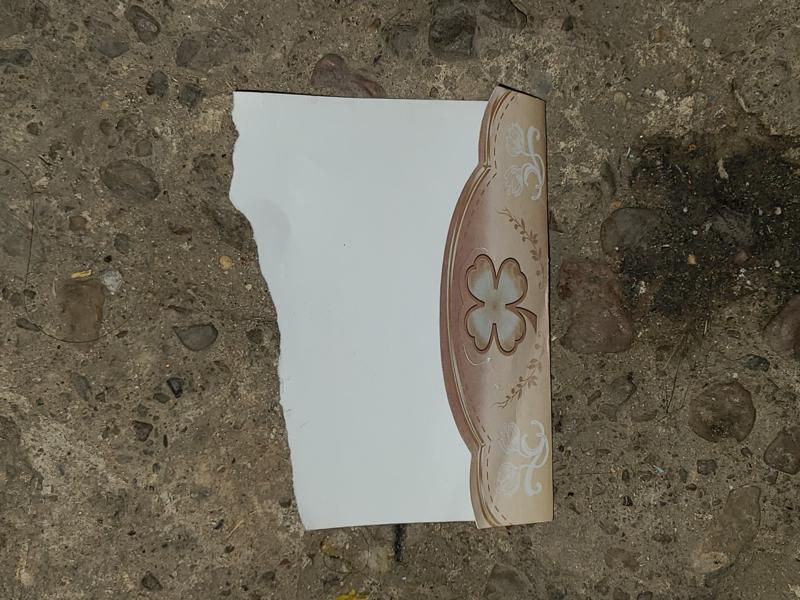papel: (229, 87, 553, 532)
